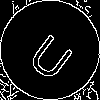U: (25, 25, 82, 84)
